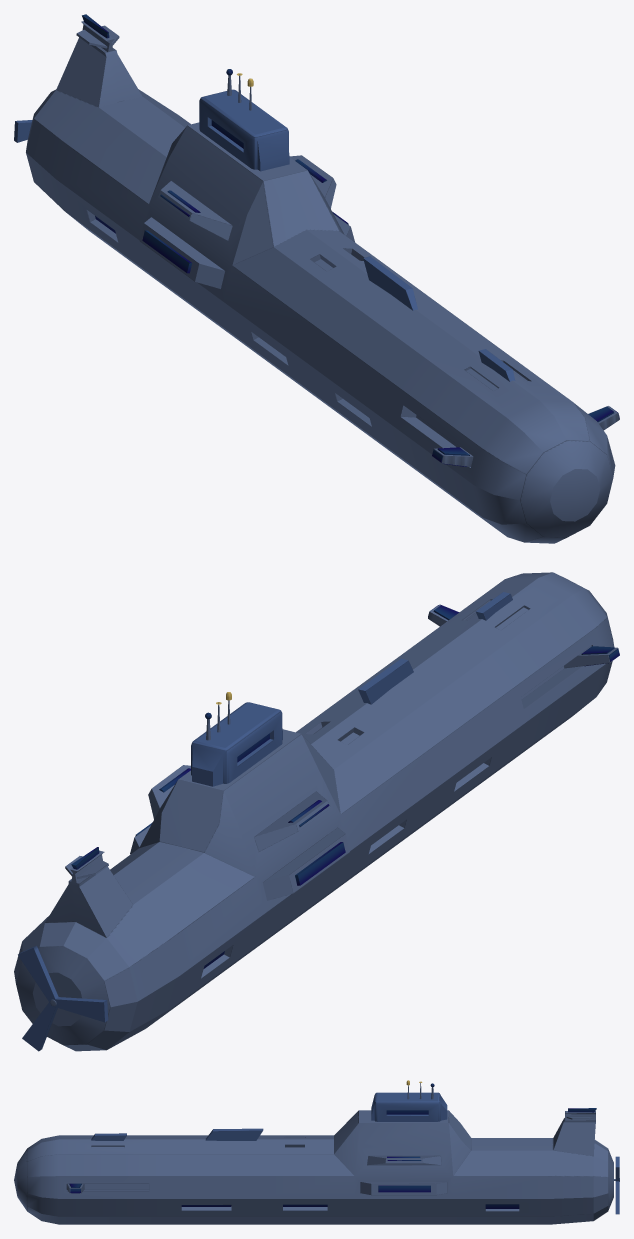
Rendered from CUPIC_SUBMARINE.obj.
The picture shows the model from 3 angles, top to bottom: view 1: azimuth 30°, elevation 25°; view 2: azimuth 150°, elevation 25°; view 3: azimuth 270°, elevation 25°; orthographic projection. The views are drawn at different scales.
Visible parts, largest first — view 1: Default; view 2: Default; view 3: Default.
Boxes of the visible parts, left/top/right/bottom form: Default: left=14, top=14, right=619, bottom=543; Default: left=14, top=572, right=619, bottom=1051; Default: left=14, top=1080, right=619, bottom=1224.
Size of the model in its own units: 8.52 by 10.95 by 42.34.
1 material, 1 textured.
